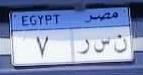7: (35, 34, 52, 58)
noon: (113, 34, 128, 55)
raa: (75, 38, 90, 56)
seen: (93, 35, 111, 56)
